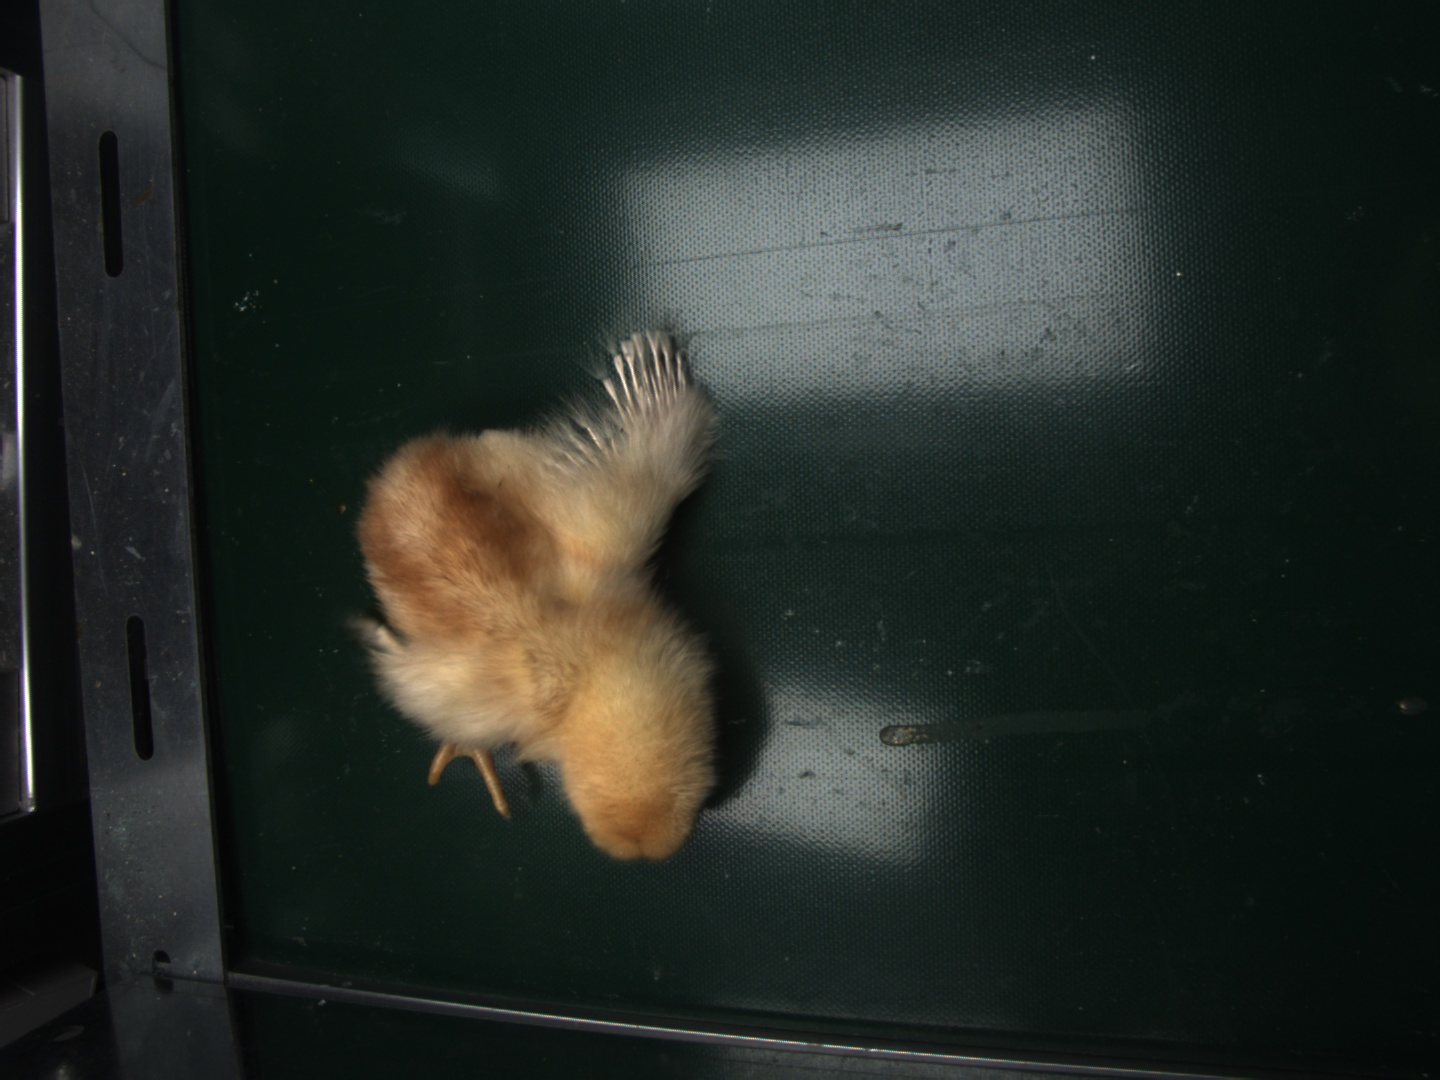female: (603, 331, 695, 420)
